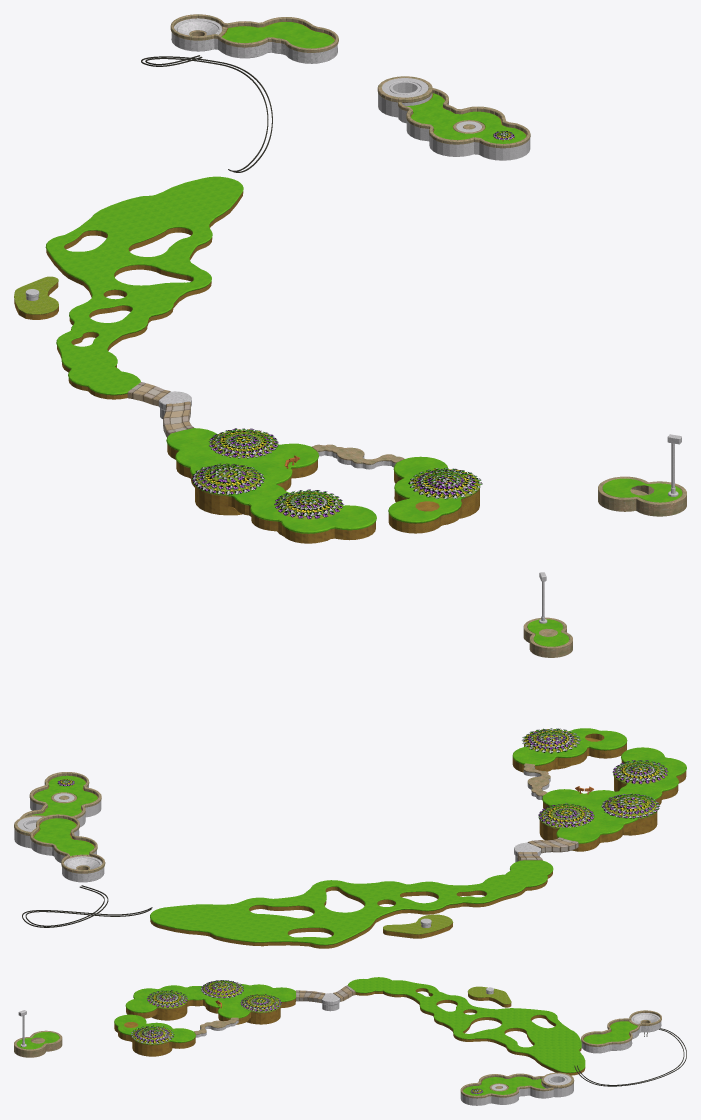
File: TrialBallPlanet.dae
The picture shows the model from 3 angles, top to bottom: view 1: azimuth 30°, elevation 25°; view 2: azimuth 150°, elevation 25°; view 3: azimuth 270°, elevation 25°; orthographic projection. The views are drawn at different scales.
Visible parts, largest first — view 1: m2, m3, m5, m4, m1, m9, m10, m8, m7, m6, m0; view 2: m2, m3, m4, m5, m1, m9, m10, m7, m8, m0, m6; view 3: m2, m3, m5, m4, m1, m9, m10, m7, m8, m6, m0.
Part boxes in pixels (box(x1,y1,x2,y2)): m2: box(45, 22, 682, 533); m3: box(14, 21, 526, 543); m5: box(25, 18, 681, 496); m4: box(170, 14, 686, 516); m1: box(14, 276, 480, 519); m9: box(192, 131, 514, 516); m10: box(192, 131, 514, 518); m8: box(192, 131, 514, 519); m7: box(196, 131, 513, 513); m6: box(127, 382, 193, 437); m0: box(141, 55, 272, 172); m2: box(32, 619, 686, 945); m3: box(33, 733, 686, 948); m4: box(14, 617, 572, 873); m5: box(14, 572, 550, 927); m1: box(383, 730, 667, 934); m9: box(58, 728, 664, 827); m10: box(57, 729, 668, 827); m7: box(60, 729, 659, 825); m8: box(58, 728, 667, 827); m0: box(22, 885, 152, 927); m6: box(517, 837, 578, 860); m2: box(16, 977, 637, 1095); m3: box(114, 988, 631, 1090); m5: box(18, 987, 661, 1105); m4: box(14, 1010, 661, 1098); m1: box(132, 981, 511, 1045); m9: box(131, 980, 482, 1093); m10: box(134, 980, 482, 1093); m7: box(133, 981, 481, 1093); m8: box(132, 980, 482, 1094); m6: box(296, 985, 355, 1003); m0: box(574, 1028, 686, 1086).
Size of the model in its own units: 18442 by 4358 by 33283.
12 materials, 12 textured.
